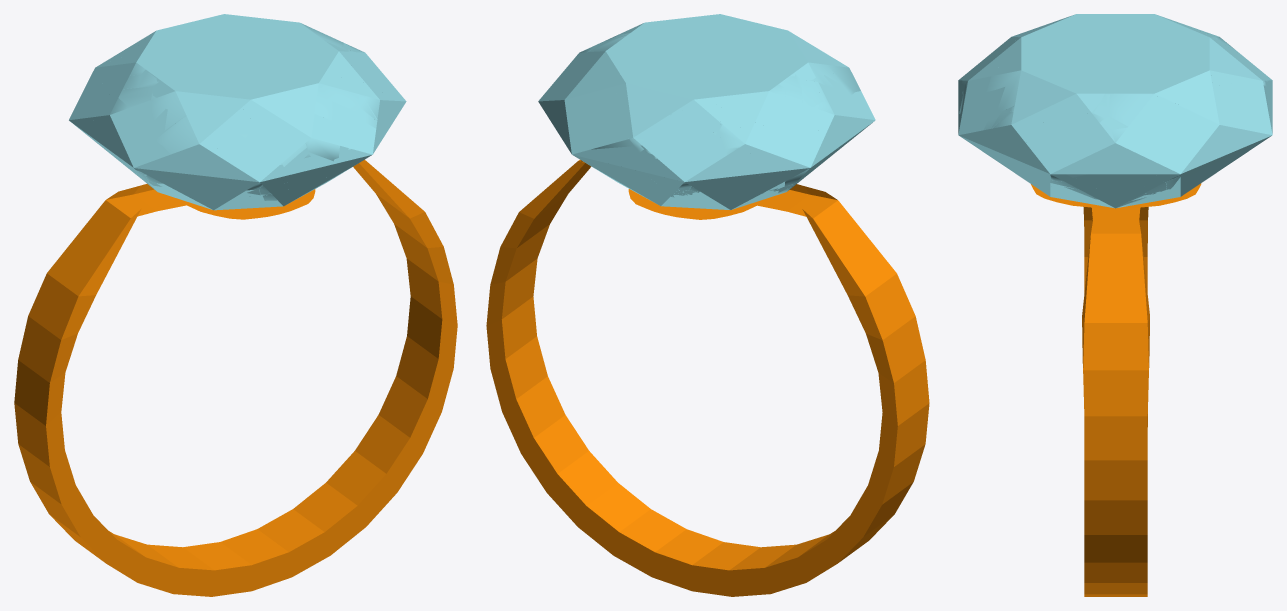
Rendered from Ring.glb.
The picture shows the model from 3 angles, left to right: view 1: azimuth 30°, elevation 25°; view 2: azimuth 150°, elevation 25°; view 3: azimuth 270°, elevation 25°; orthographic projection.
Parts seen in each view (by area): view 1: Circle, Original, Gem_cell.049_cell.007, Gem_cell.034, Gem_cell.020_cell, Gem_cell.049_cell.003, Gem_cell.020_cell.002, Gem_cell.047_cell.006, Gem_cell.040_cell.002, Gem_cell.033; view 2: Circle, Original, Gem_cell.035, Gem_cell.019, Gem_cell.040_cell.002, Gem_cell.037_cell.007, Gem_cell.037_cell.001, Gem_cell.047_cell.006, Gem_cell.041_cell.006, Gem_cell.049_cell.007, Gem_cell.037_cell.002, Gem_cell.041_cell (+1 smaller); view 3: Original, Circle, Gem_cell.035, Gem_cell.034, Gem_cell.042_cell.005, Gem_cell.036_cell.005, Gem_cell.056_cell.002, Gem_cell.045_cell.007, Gem_cell.032_cell.001, Gem_cell.045_cell, Gem_cell.020_cell, Gem_cell.056_cell.003 (+4 smaller).
Part boxes in pixels (x1,y1,x2,y2): Circle: (14, 159, 457, 596); Original: (69, 14, 406, 210); Gem_cell.049_cell.007: (151, 96, 244, 180); Gem_cell.034: (271, 69, 360, 120); Gem_cell.020_cell: (299, 111, 339, 173); Gem_cell.049_cell.003: (150, 91, 221, 130); Gem_cell.020_cell.002: (246, 101, 304, 131); Gem_cell.047_cell.006: (93, 93, 128, 157); Gem_cell.040_cell.002: (109, 43, 148, 76); Gem_cell.033: (263, 176, 336, 204); Circle: (486, 160, 929, 596); Original: (538, 14, 875, 210); Gem_cell.035: (548, 70, 620, 134); Gem_cell.019: (573, 105, 670, 193); Gem_cell.040_cell.002: (722, 84, 785, 124); Gem_cell.037_cell.007: (671, 104, 721, 136); Gem_cell.037_cell.001: (621, 103, 668, 151); Gem_cell.047_cell.006: (801, 100, 856, 160); Gem_cell.041_cell.006: (745, 122, 782, 161); Gem_cell.049_cell.007: (795, 39, 860, 95); Gem_cell.037_cell.002: (631, 87, 678, 115); Gem_cell.041_cell: (719, 117, 747, 149); Original: (958, 14, 1272, 208); Circle: (1031, 183, 1201, 596); Gem_cell.035: (1166, 76, 1260, 189); Gem_cell.034: (986, 47, 1045, 111); Gem_cell.042_cell.005: (1108, 93, 1162, 144); Gem_cell.036_cell.005: (990, 112, 1040, 147); Gem_cell.056_cell.002: (1026, 81, 1058, 124); Gem_cell.045_cell.007: (1064, 186, 1155, 204); Gem_cell.032_cell.001: (1105, 127, 1141, 156); Gem_cell.045_cell: (1050, 158, 1118, 189); Gem_cell.020_cell: (959, 70, 995, 113); Gem_cell.056_cell.003: (1057, 89, 1099, 117).
Bounding box in the file's own units: 3.82 × 4.63 × 2.53.
